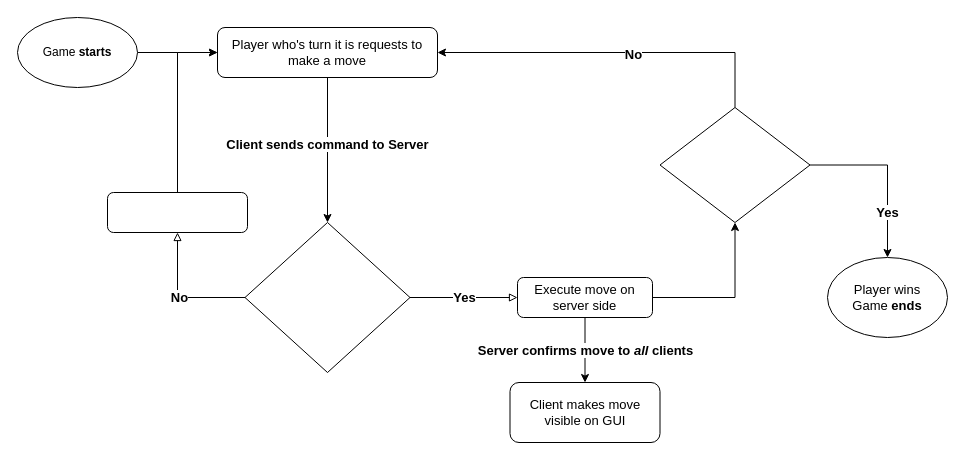
Image size: 965x460. Some labels were removed from this diagram. The shapes that lost their labels are listed below. From the top down, each one's centre as x and y in pixels, then its label:
At pixel 734 164: "Is the player's Stockpile empty?".
At pixel 177 212: "Error message".
At pixel 327 297: "Server checks: is the move valid?".
